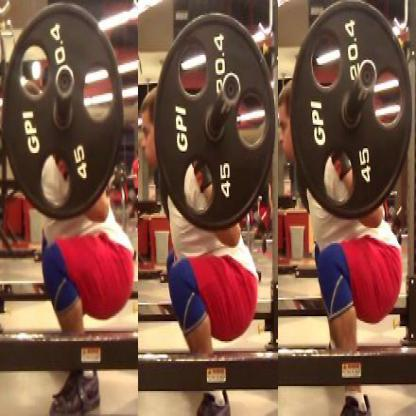Barbell: (148, 8, 278, 235), (288, 0, 415, 226), (1, 2, 127, 226)
